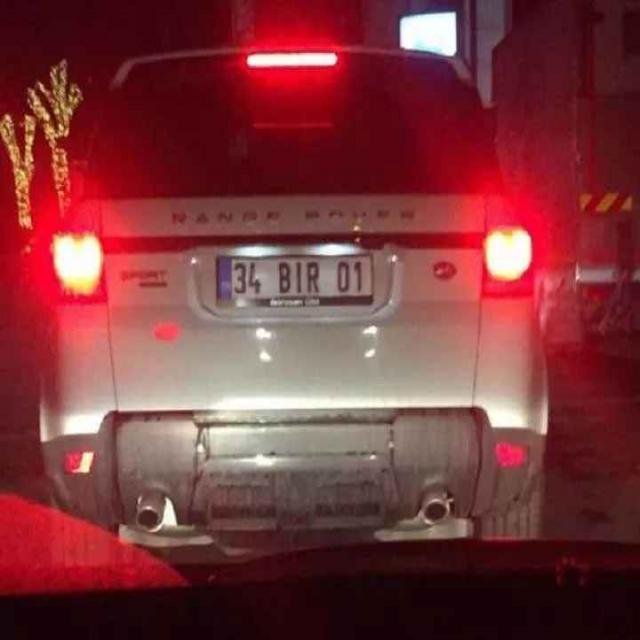plate: (216, 255, 374, 309)
